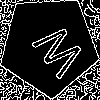W: (24, 20, 87, 87)
